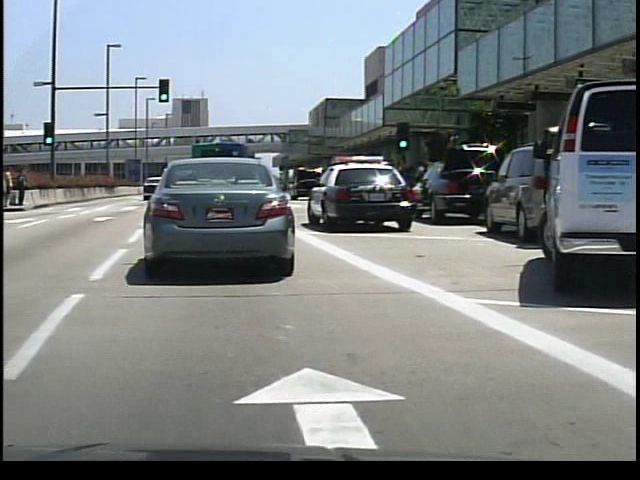person: (14, 165, 28, 208)
